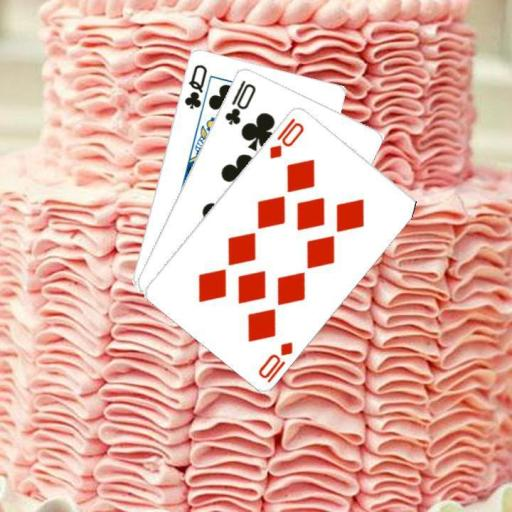card-corner: (221, 76, 258, 127), (266, 114, 306, 160), (254, 338, 294, 384), (181, 60, 208, 110)
